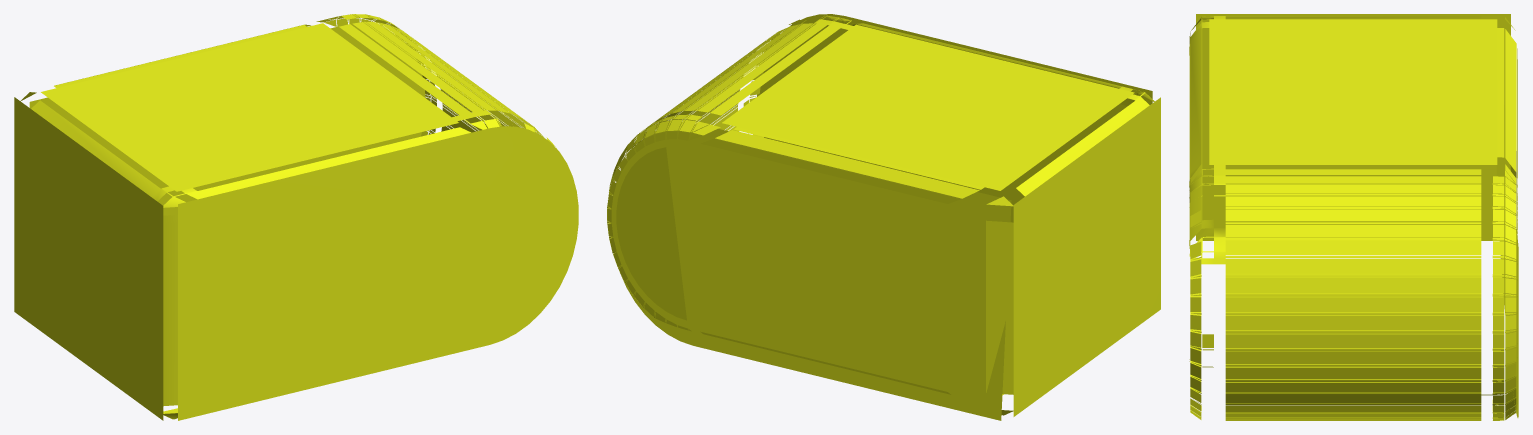
The model's file is membre2.fbx.
The picture shows the model from 3 angles, left to right: view 1: azimuth 30°, elevation 25°; view 2: azimuth 150°, elevation 25°; view 3: azimuth 270°, elevation 25°; orthographic projection. The views are drawn at different scales.
Parts seen in each view (by area): view 1: membre2; view 2: membre2; view 3: membre2.
Part boxes in pixels (box(x1,y1,x2,y2)): membre2: box(14, 14, 578, 420); membre2: box(607, 14, 1160, 420); membre2: box(1189, 14, 1518, 420).
Size of the model in its own units: 299 by 155 by 195.
